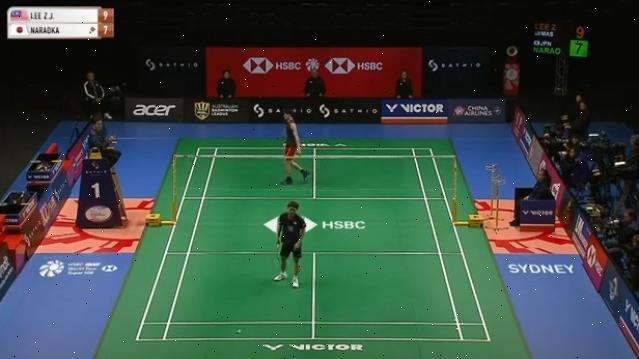Shuttlecock: (236, 326, 244, 338)
